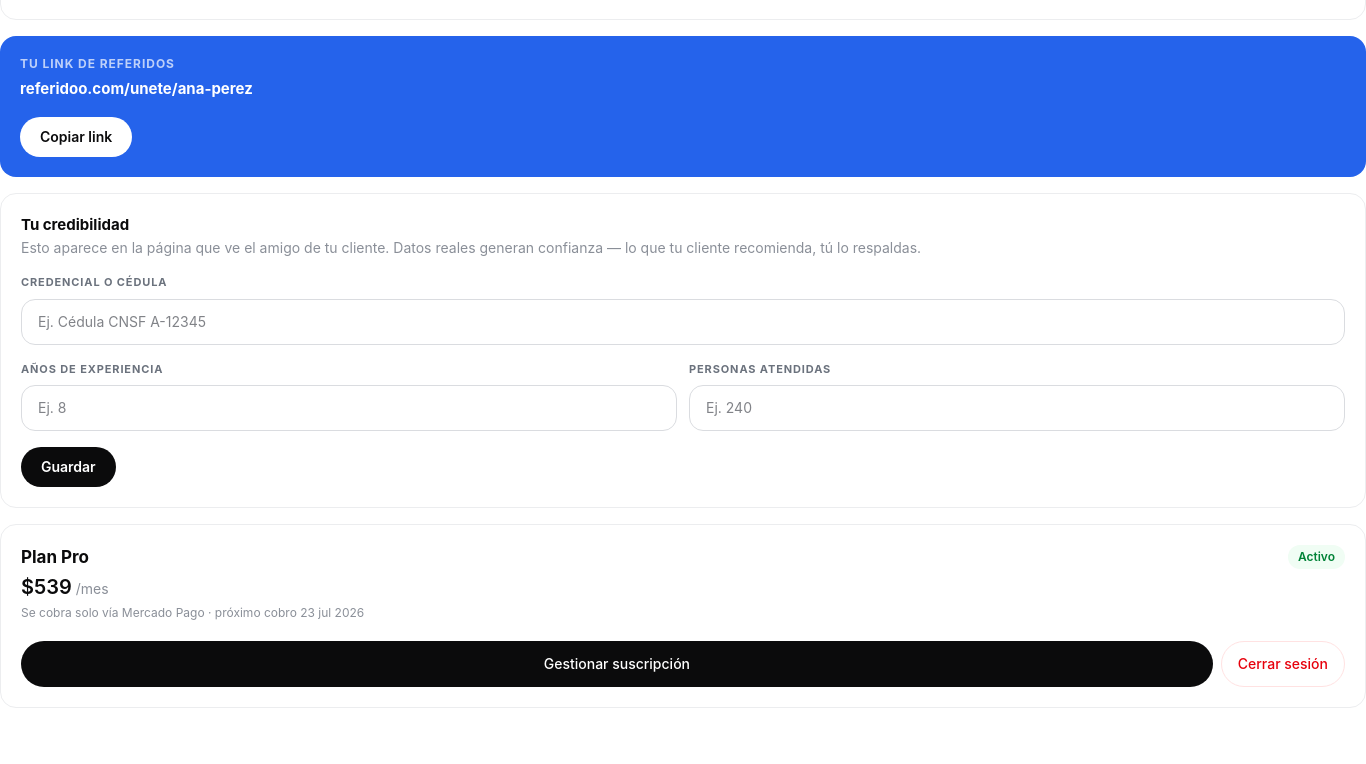
Test case: PerfilPage › shows an error message when cancel fails (no active MP subscription)
(page scrolled)
Click the button "Gestionar suscripción".
click(617, 664)  # box [21,640,1213,686]
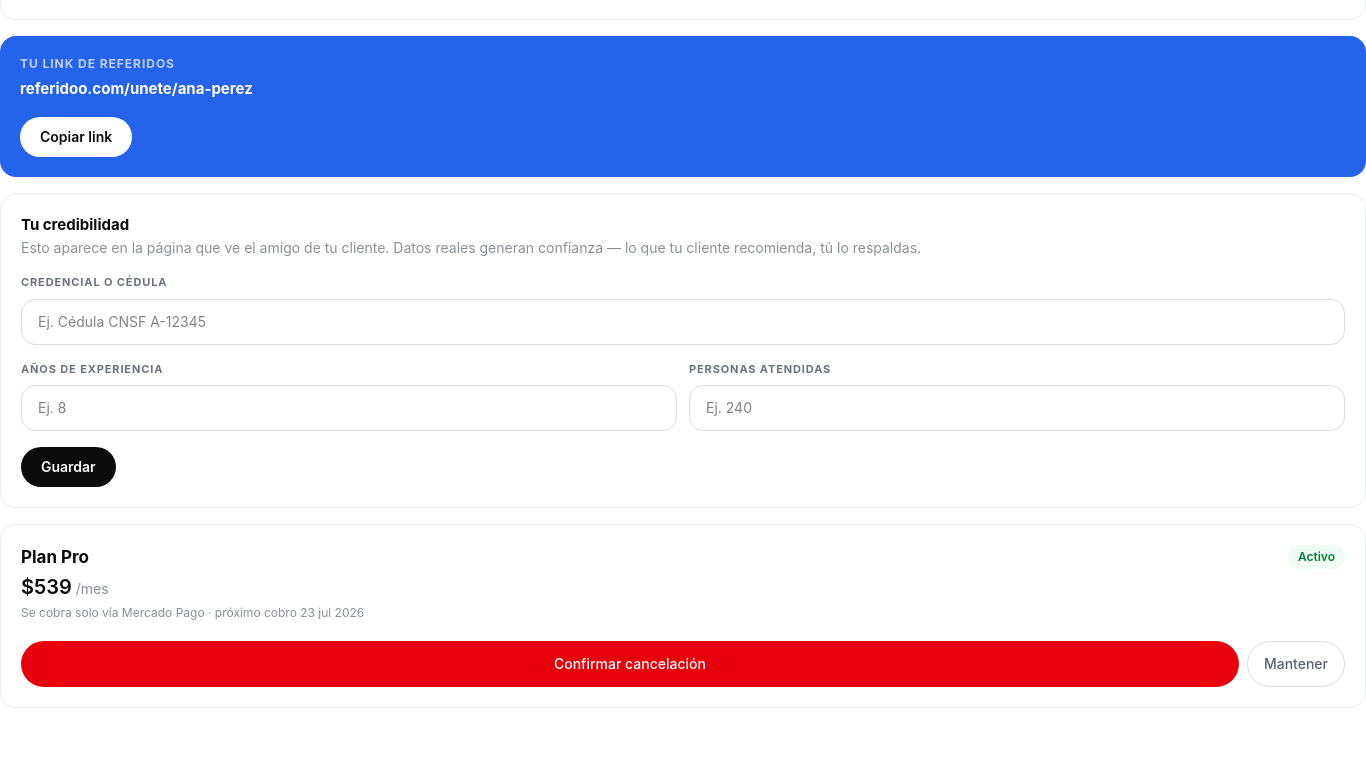
Click the button "Confirmar cancelación".
click(630, 664)  # box [21,640,1239,686]
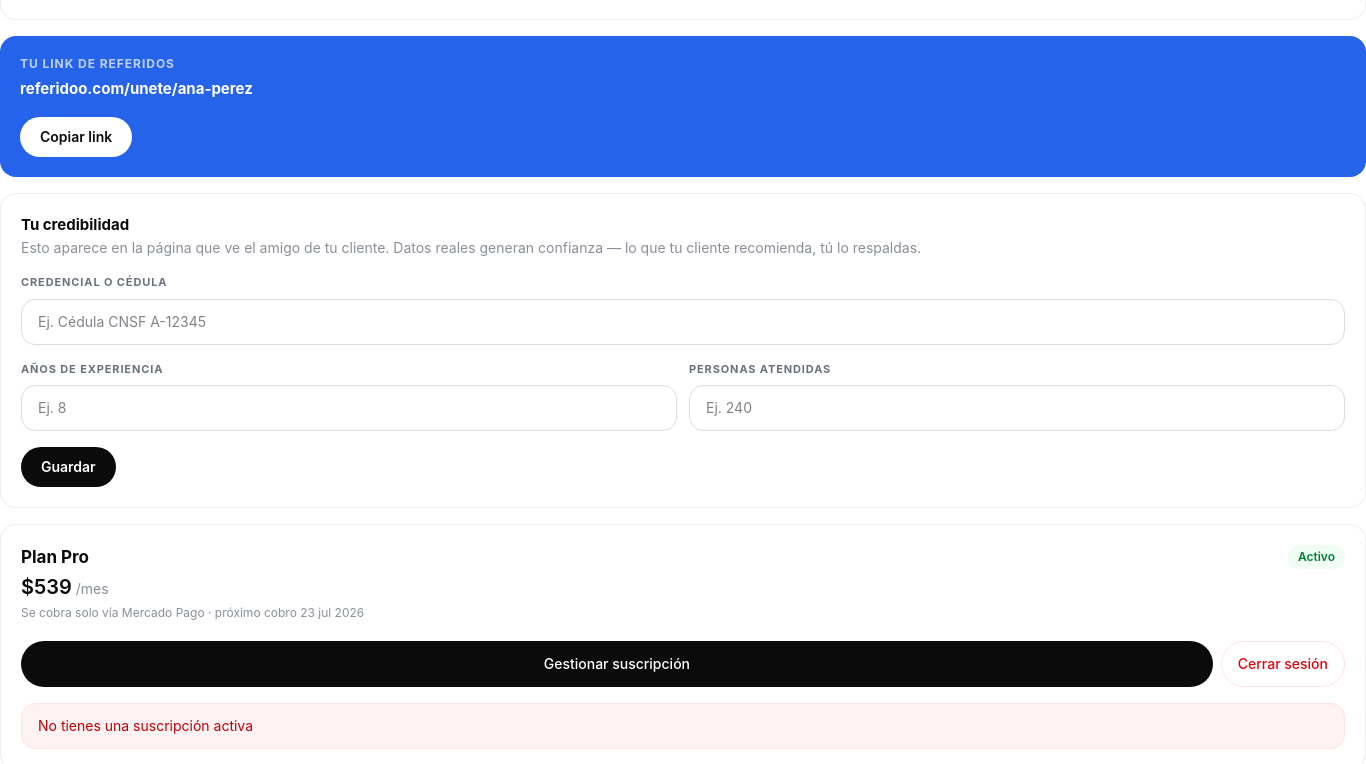
Now the text "No tienes una suscripción activa" is shown, box [21,702,1345,748]
